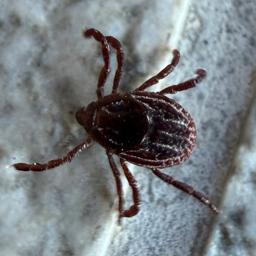Rhipicephalus sanguineus: (7, 27, 225, 219)
